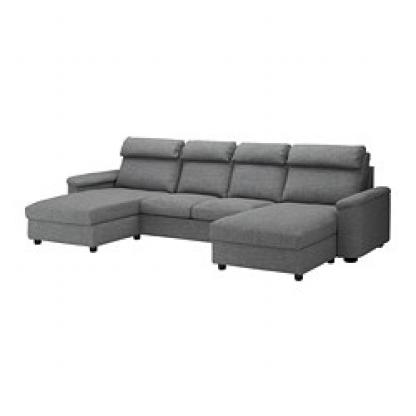Sofa: (17, 122, 391, 296)
